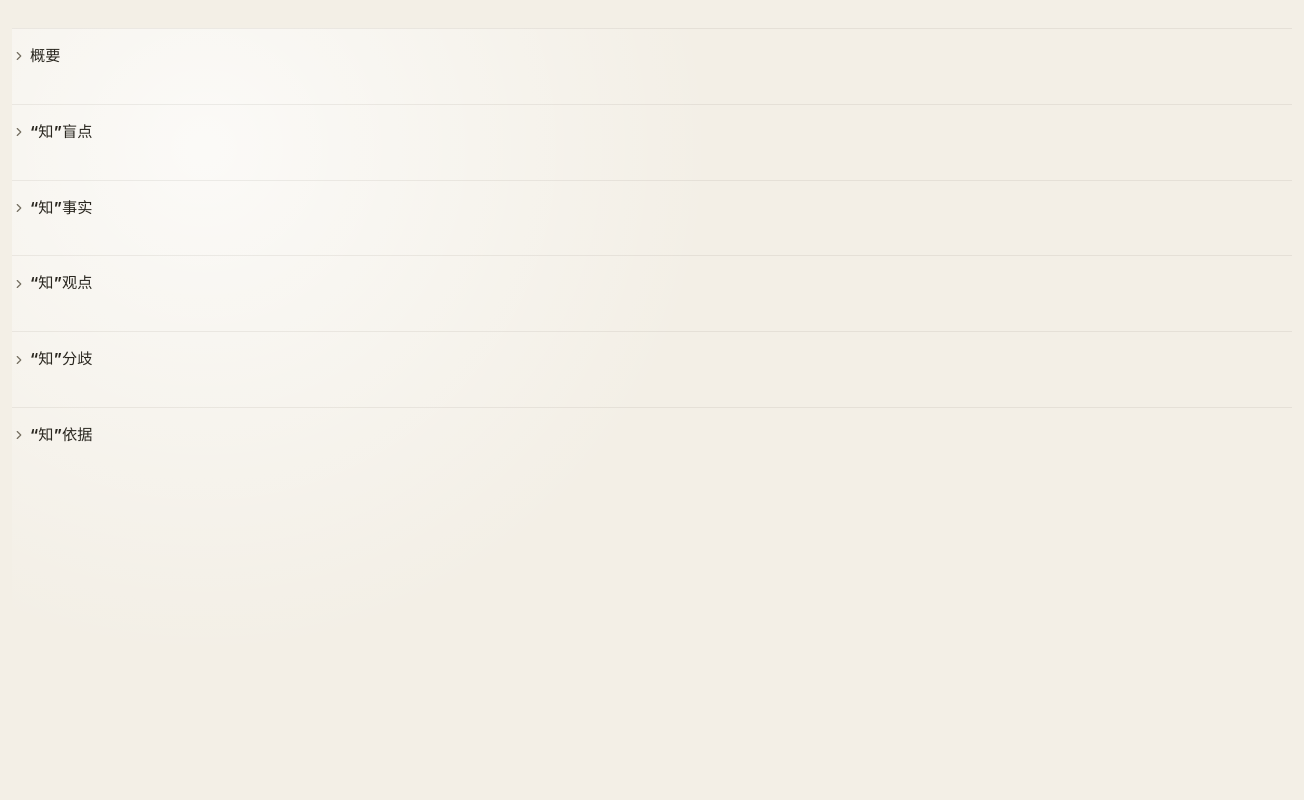
ThemeReportView › shows what the sources do with each blind spot
Click the button "“知”盲点" at (61, 131), box [12,117,1292,152]
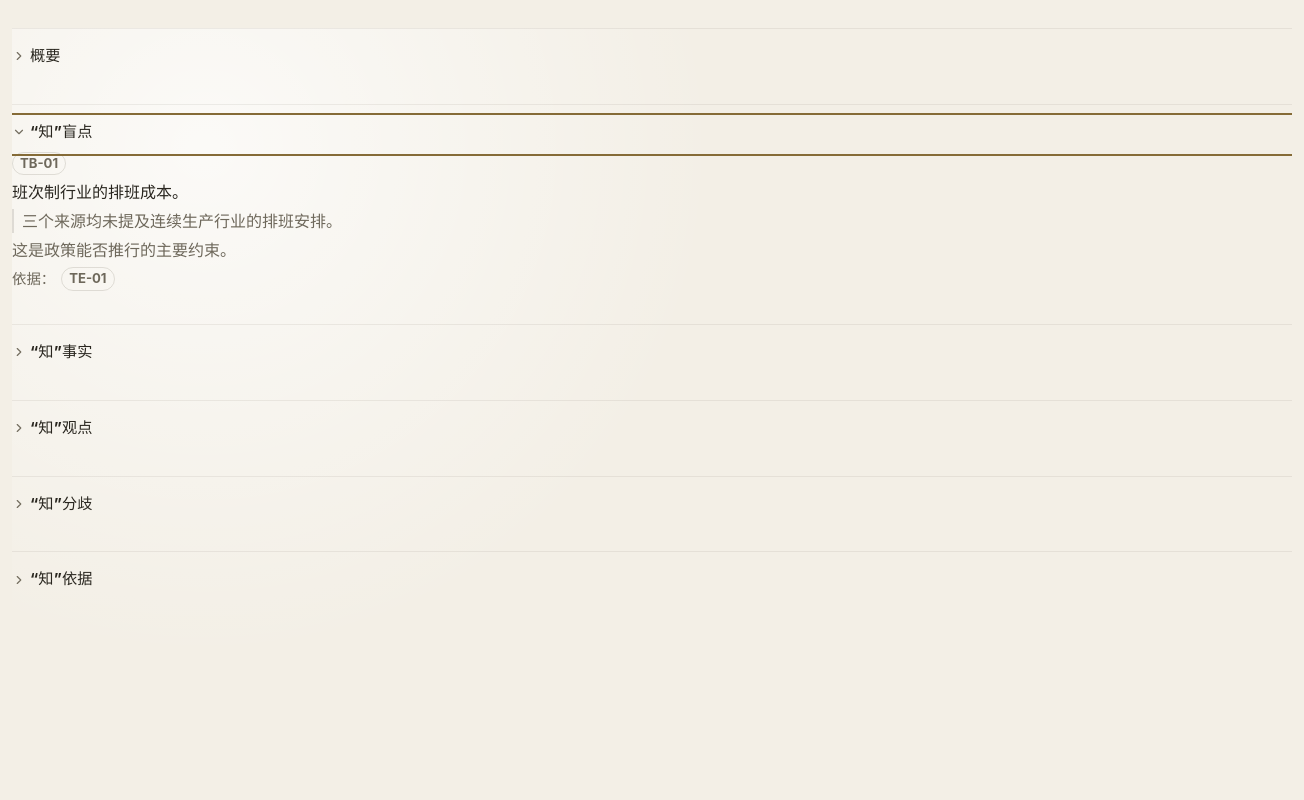
Expected: the text "三个来源均未提及连续生产行业的排班安排。" is shown, [12,209,1292,233]
